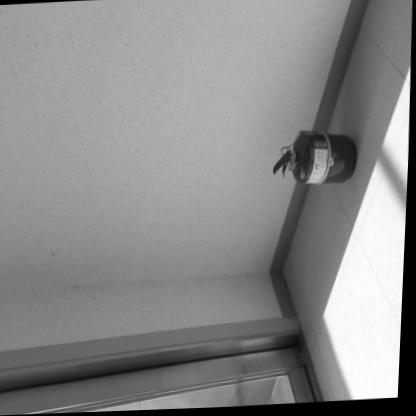FE: (273, 128, 362, 188)
